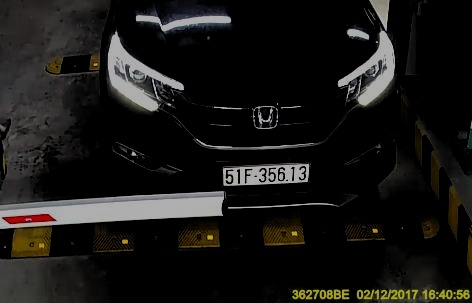plate: (222, 162, 311, 183)
